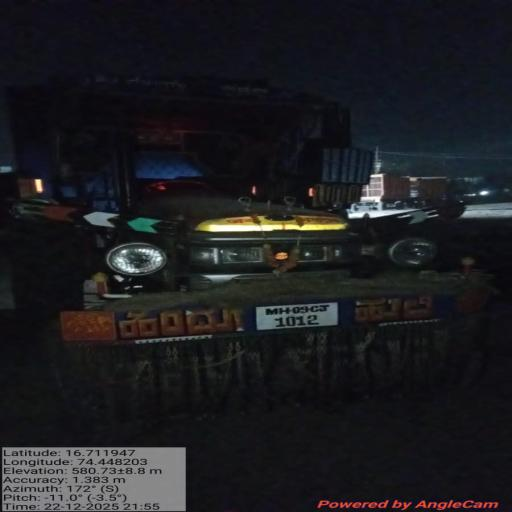number_plate: (256, 303, 337, 330)
